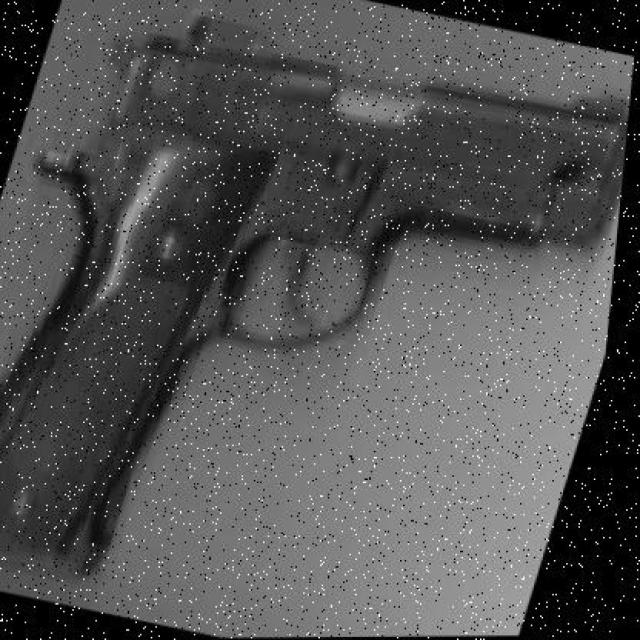weapon: (0, 22, 626, 581)
